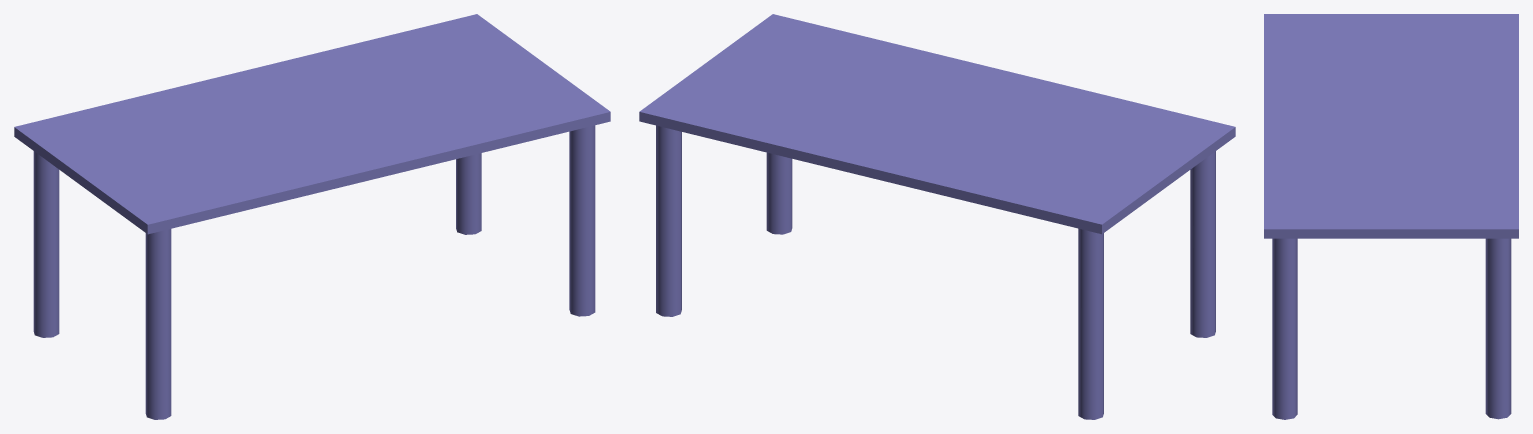
The model's file is Desk.fbx.
3 views of the same model, side by side, from view 1: azimuth 30°, elevation 25°; view 2: azimuth 150°, elevation 25°; view 3: azimuth 270°, elevation 25° (orthographic). The views are drawn at different scales.
Visible parts, largest first — view 1: Desk; view 2: Desk; view 3: Desk.
Part boxes in pixels (x1=…): Desk: x1=14, y1=14, x2=610, y2=419; Desk: x1=639, y1=14, x2=1235, y2=419; Desk: x1=1264, y1=14, x2=1518, y2=419.
Size of the model in its own units: 200 by 83.79 by 100.
